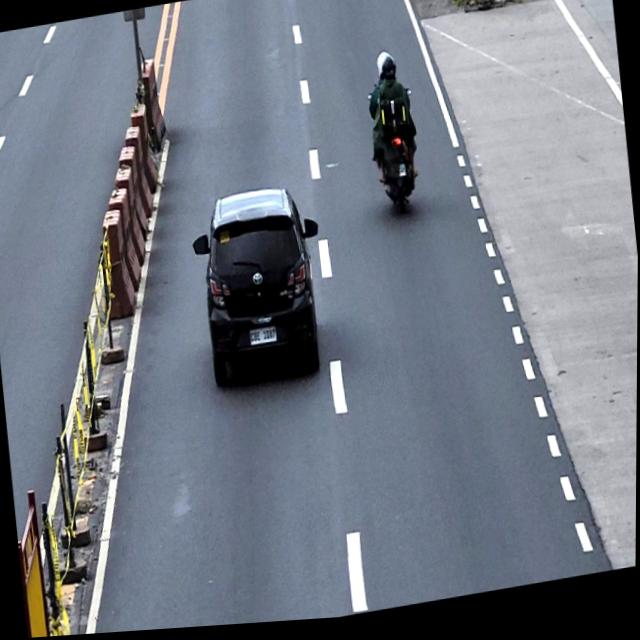Car: (186, 181, 333, 394)
License-Plate: (248, 327, 278, 349)
Motorcycle: (365, 87, 425, 224)
